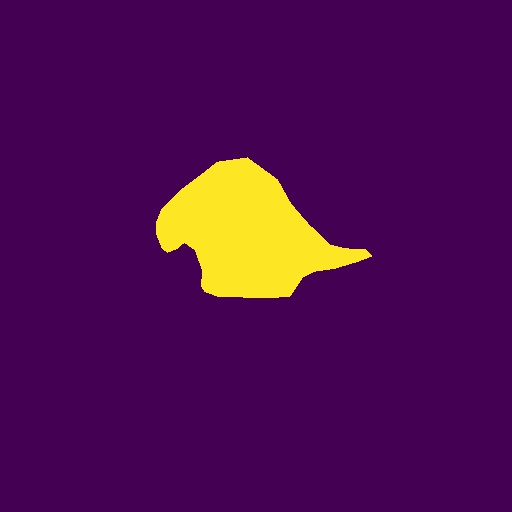Gliomia_tumour: (156, 157, 372, 298)
